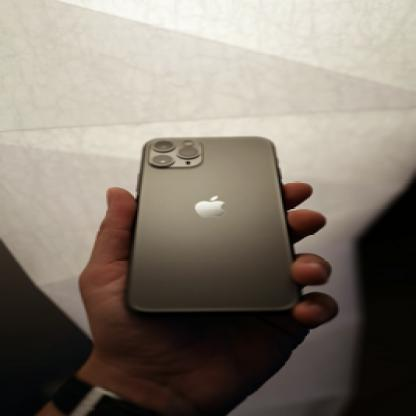cell-phone: (136, 128, 302, 311)
